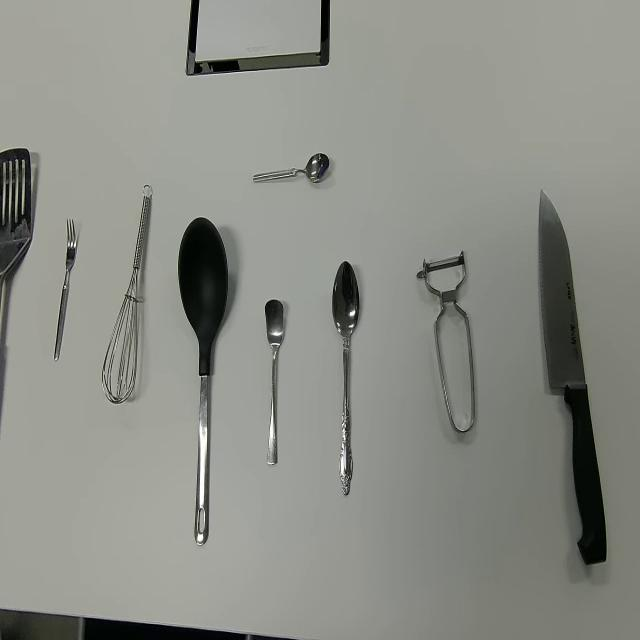Desert-Spoon: (332, 260, 360, 498)
Dinner-Fork: (53, 218, 77, 364)
Kitchen-Knife: (538, 188, 608, 566)
Peeler: (416, 248, 476, 434)
Serving-Spoon: (178, 215, 230, 547), (1, 146, 32, 292)
Tea-Spoon: (264, 297, 284, 466), (252, 152, 330, 185)
Whisk: (100, 183, 152, 405)
